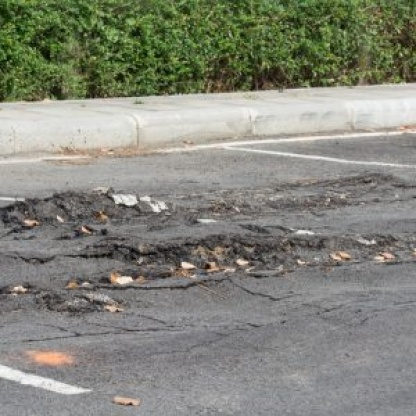pothole: (6, 190, 413, 282)
